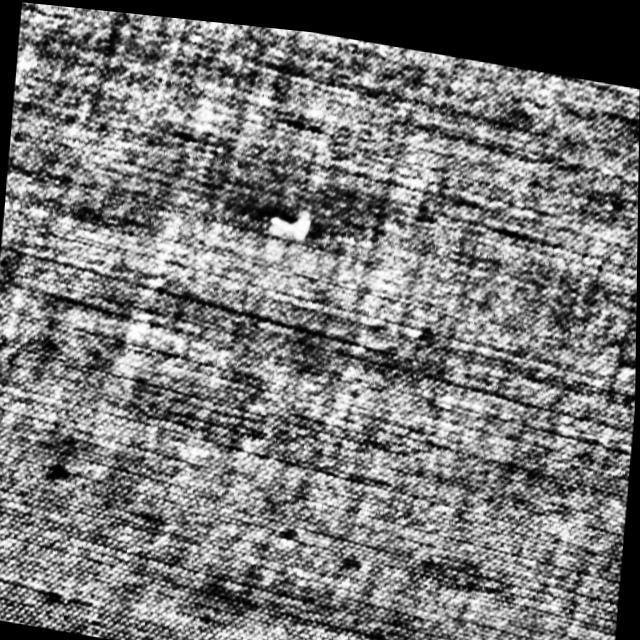Hole: (263, 206, 320, 244)
